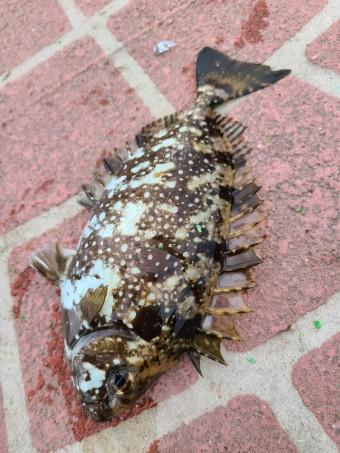fish: (32, 48, 290, 419)
